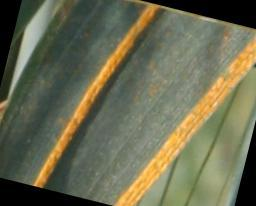Wheat: (36, 10, 152, 180), (125, 49, 249, 205)
